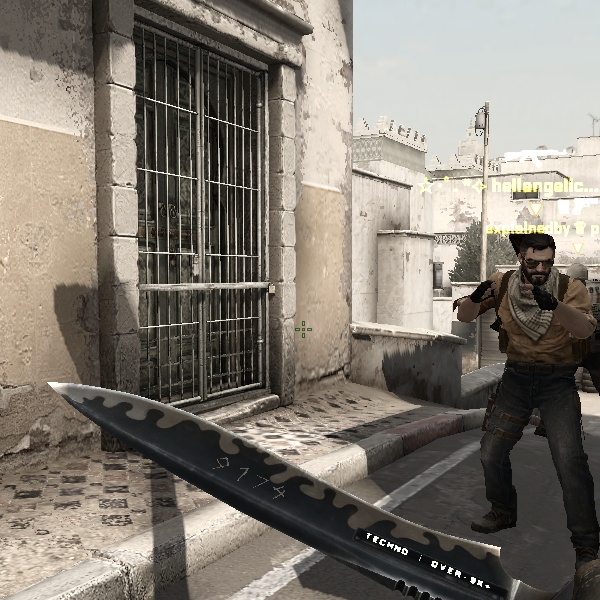t_body: (448, 222, 600, 557)
t_head: (505, 226, 566, 289)
